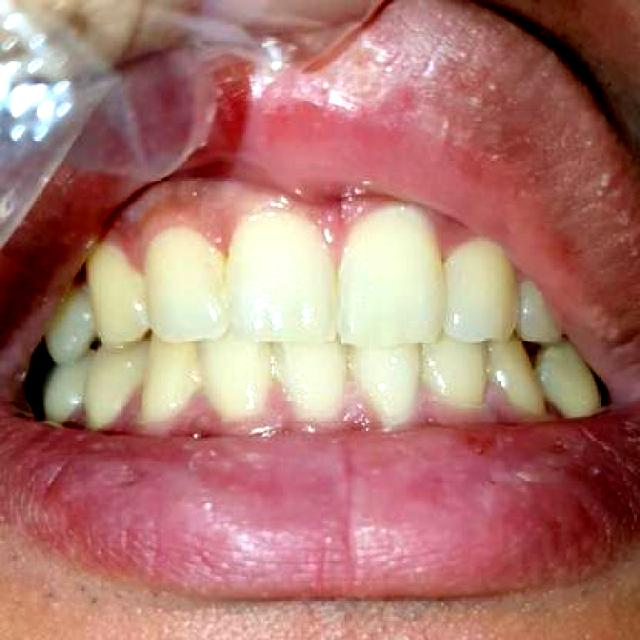Plaque: (402, 372, 526, 437), (331, 379, 399, 432), (172, 391, 241, 440), (253, 375, 304, 430)
